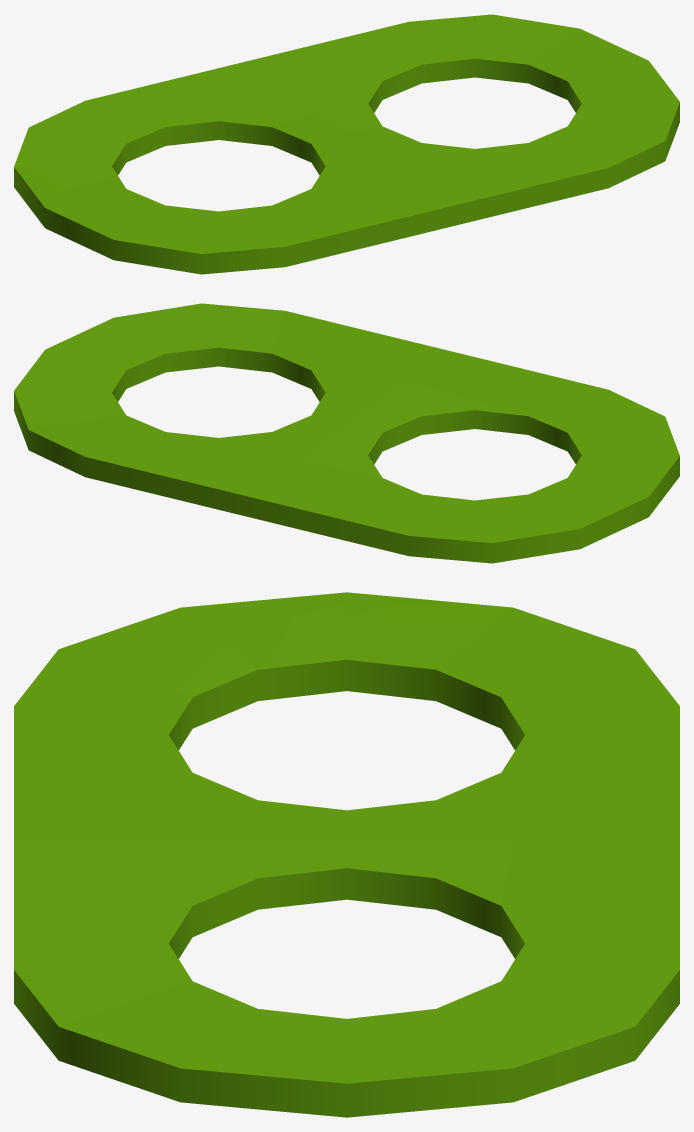
The model's file is TwoLongGreen.fbx.
3 renders of one model, top to bottom at view 1: azimuth 30°, elevation 25°; view 2: azimuth 150°, elevation 25°; view 3: azimuth 270°, elevation 25°, orthographic. The views are drawn at different scales.
Parts seen in each view (by area): view 1: Blue2; view 2: Blue2; view 3: Blue2.
Boxes of the visible parts, x1=… form: Blue2: x1=14, y1=14, x2=679, y2=274; Blue2: x1=14, y1=303, x2=679, y2=563; Blue2: x1=14, y1=592, x2=679, y2=1117.
Bounding box in the file's own units: 6.02 × 0.1942 × 3.45.
